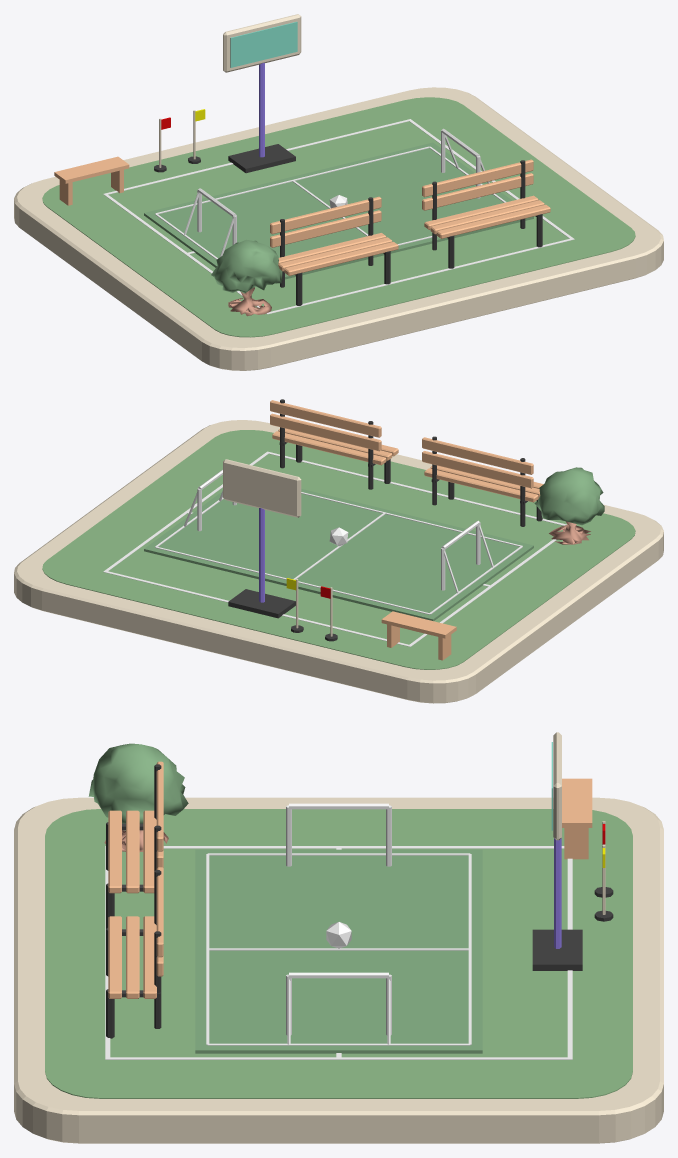
3 views of the same model, one above another, from view 1: azimuth 30°, elevation 25°; view 2: azimuth 150°, elevation 25°; view 3: azimuth 270°, elevation 25° (orthographic). The views are drawn at different scales.
Parts seen in each view (by area): view 1: COM-02 Floor Surface, COM-01 Rounded Base Direct, Court surface, 둥근 수관 나무, Inset, Sign panel, Back slat, Back slat.001, Back slat.002, Back slat.003, Foot, Seat slat (+10 smaller); view 2: COM-02 Floor Surface, COM-01 Rounded Base Direct, Court surface, 둥근 수관 나무, Sign panel, Back slat.002, Back slat.003, Back slat.001, Back slat, Foot, Bench seat, Seat slat.002 (+10 smaller); view 3: COM-02 Floor Surface, Court surface, COM-01 Rounded Base Direct, 둥근 수관 나무, Foot, Bench seat, Court outer line.001, Seat slat, Seat slat.001, Seat slat.003, Seat slat.004, Court outer line (+15 smaller).
Boxes of the visible parts, x1=… form: COM-02 Floor Surface: x1=42, y1=97, x2=635, y2=337; COM-01 Rounded Base Direct: x1=14, y1=87, x2=663, y2=370; Court surface: x1=144, y1=142, x2=533, y2=286; 둥근 수관 나무: x1=211, y1=239, x2=282, y2=316; Inset: x1=230, y1=21, x2=297, y2=67; Sign panel: x1=223, y1=14, x2=301, y2=72; Back slat: x1=270, y1=210, x2=381, y2=247; Back slat.001: x1=270, y1=196, x2=381, y2=234; Back slat.002: x1=422, y1=173, x2=533, y2=210; Back slat.003: x1=422, y1=159, x2=533, y2=197; Foot: x1=228, y1=144, x2=295, y2=173; Seat slat: x1=284, y1=242, x2=398, y2=275; COM-02 Floor Surface: x1=42, y1=430, x2=635, y2=669; COM-01 Rounded Base Direct: x1=14, y1=420, x2=663, y2=703; Court surface: x1=144, y1=489, x2=533, y2=621; 둥근 수관 나무: x1=534, y1=467, x2=604, y2=544; Sign panel: x1=223, y1=459, x2=301, y2=517; Back slat.002: x1=270, y1=413, x2=381, y2=451; Back slat.003: x1=270, y1=400, x2=381, y2=437; Back slat.001: x1=422, y1=437, x2=533, y2=474; Back slat: x1=422, y1=451, x2=533, y2=488; Foot: x1=228, y1=589, x2=295, y2=618; Bench seat: x1=381, y1=611, x2=456, y2=638; Seat slat.002: x1=424, y1=468, x2=538, y2=502; COM-02 Floor Surface: x1=45, y1=809, x2=632, y2=1098; Court surface: x1=195, y1=849, x2=482, y2=1053; COM-01 Rounded Base Direct: x1=14, y1=797, x2=663, y2=1143; 둥근 수관 나무: x1=88, y1=743, x2=188, y2=851; Foot: x1=532, y1=929, x2=582, y2=970; Bench seat: x1=562, y1=778, x2=592, y2=827; Court outer line.001: x1=107, y1=1057, x2=570, y2=1059; Seat slat: x1=108, y1=810, x2=121, y2=893; Seat slat.001: x1=126, y1=810, x2=139, y2=893; Seat slat.003: x1=108, y1=916, x2=121, y2=998; Seat slat.004: x1=126, y1=916, x2=139, y2=998; Court outer line: x1=163, y1=846, x2=564, y2=848.
Bounding box in the file's own units: 6 × 2.02 × 5.2.
1 material, 1 textured.
